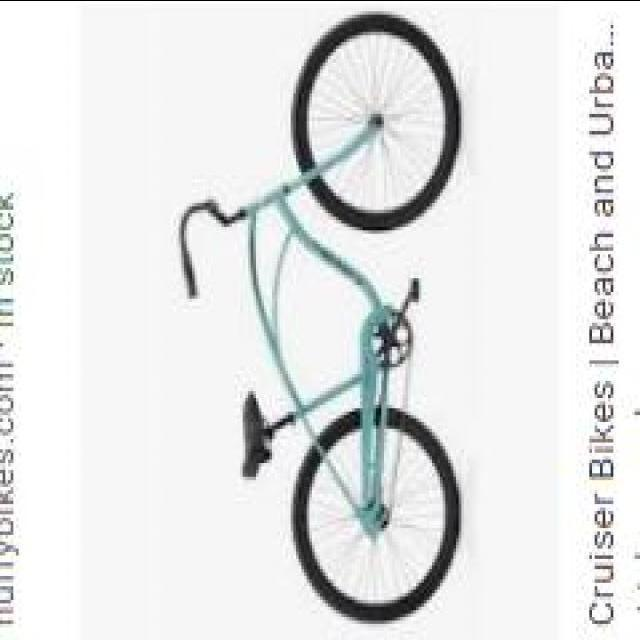bicycle: (172, 21, 470, 617)
